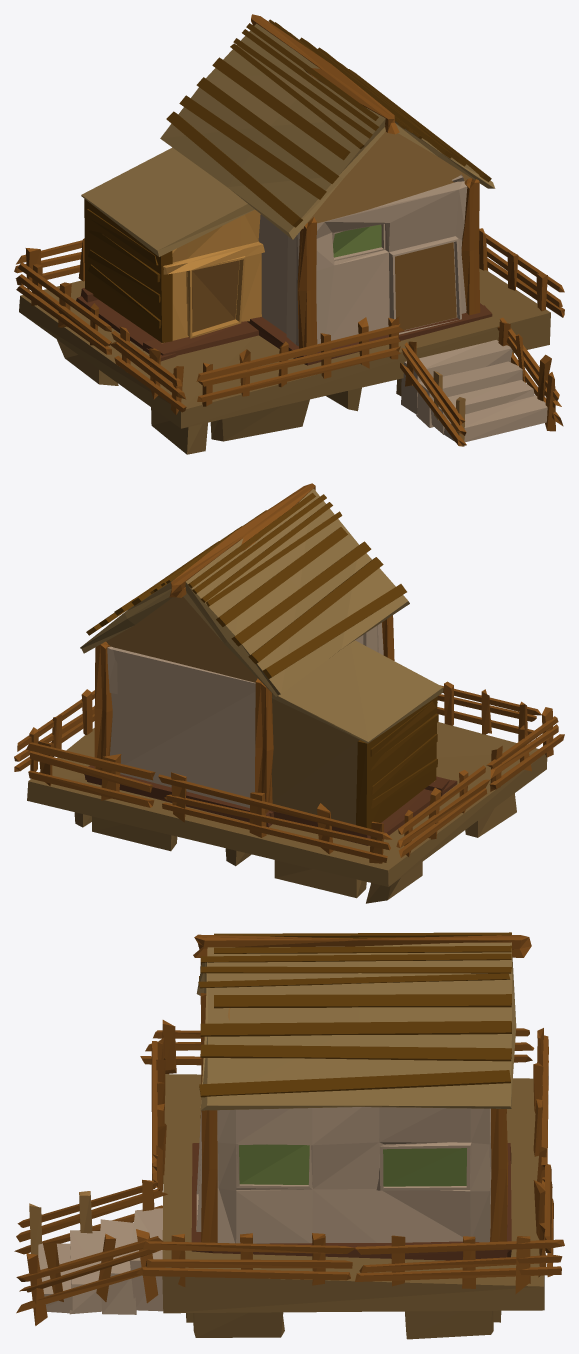
Rendered from house.fbx.
The picture shows the model from 3 angles, top to bottom: view 1: azimuth 30°, elevation 25°; view 2: azimuth 150°, elevation 25°; view 3: azimuth 270°, elevation 25°; orthographic projection. The views are drawn at different scales.
Visible parts, largest first — view 1: house, down, fence, stairs, stairs_fence; view 2: house, down, fence; view 3: house, down, fence, stairs_fence, stairs.
Part boxes in pixels (bbox=[...]): house: bbox=[76, 14, 495, 365]; down: bbox=[19, 268, 550, 454]; fence: bbox=[14, 228, 564, 414]; stairs: bbox=[401, 340, 547, 446]; stairs_fence: bbox=[400, 317, 563, 445]; house: bbox=[80, 483, 457, 845]; down: bbox=[27, 722, 547, 903]; fence: bbox=[14, 681, 564, 863]; house: bbox=[191, 932, 531, 1260]; down: bbox=[162, 1074, 544, 1339]; fence: bbox=[136, 1020, 564, 1294]; stairs_fence: bbox=[14, 1179, 167, 1325]; stairs: bbox=[29, 1191, 163, 1314].
Size of the model in its own units: 1288 by 927 by 1367.
